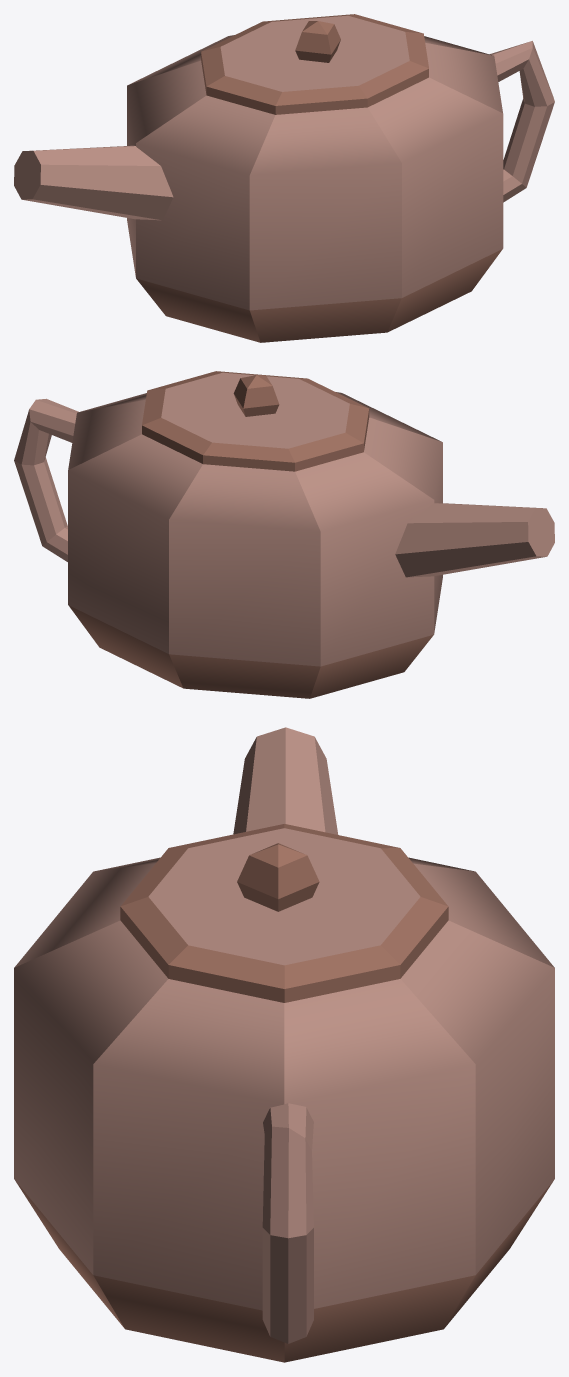
Rendered from tea_pot.fbx.
3 views of the same model, one above another, from view 1: azimuth 30°, elevation 25°; view 2: azimuth 150°, elevation 25°; view 3: azimuth 270°, elevation 25° (orthographic). The views are drawn at different scales.
Parts seen in each view (by area): view 1: tea_kettle; view 2: tea_kettle; view 3: tea_kettle.
Boxes of the visible parts, box(x1,y1,x2,y2) form: tea_kettle: box(14, 14, 554, 342); tea_kettle: box(14, 371, 554, 698); tea_kettle: box(14, 727, 554, 1362).
Size of the model in its own units: 2.02 by 0.9428 by 1.14.
